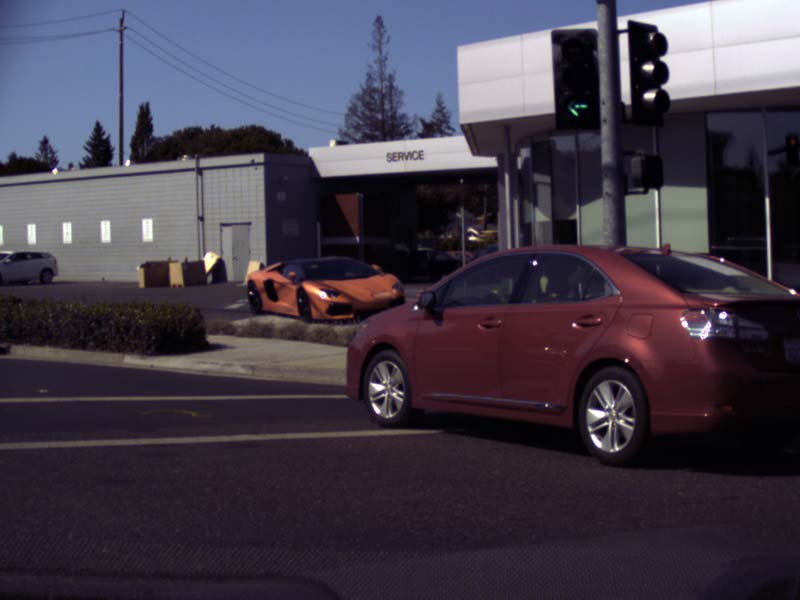Green: (551, 29, 598, 132)
Red: (626, 20, 668, 129)
